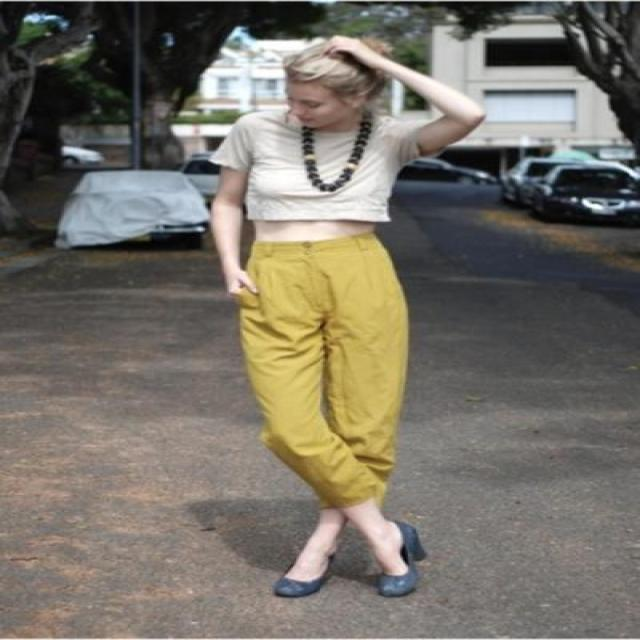pants: (229, 237, 406, 524)
shirt: (211, 90, 451, 220)
shoe: (274, 529, 426, 604)
